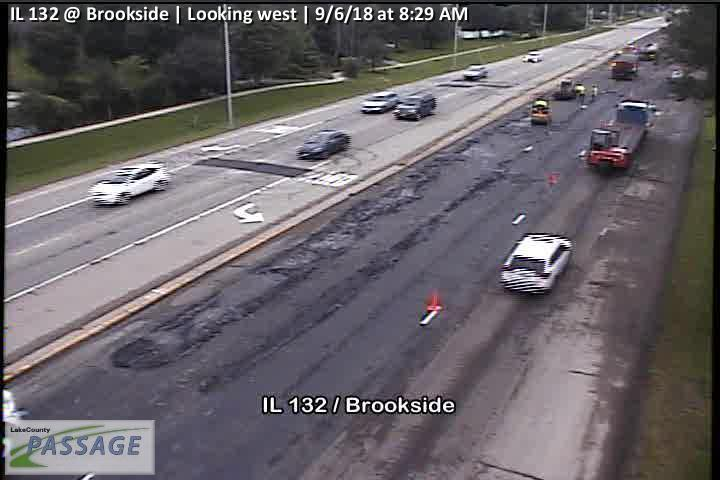SUV: (393, 90, 436, 120)
Sedan: (500, 231, 573, 296), (88, 160, 171, 207), (293, 128, 350, 162), (359, 89, 398, 113), (462, 62, 488, 80)
Truck: (584, 97, 652, 173), (607, 42, 639, 79)
